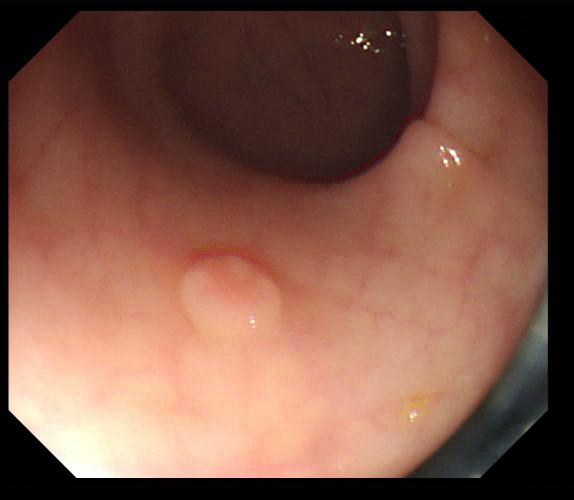polyp: (176, 253, 284, 344)
